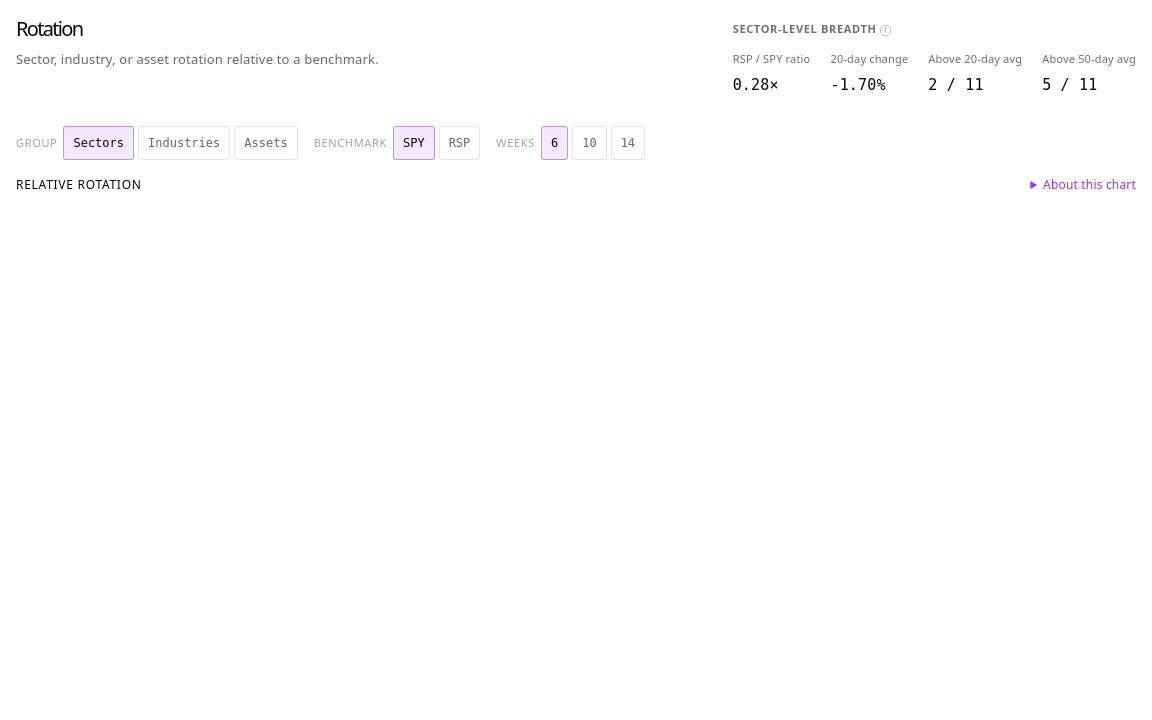
Test case: Rotation page -- default view (sectors/SPY) › states the approximation and never claims parity with the proprietary JdK indicator
Click the heading "About this chart": (1083, 185) left=1030, top=172, right=1136, bottom=198
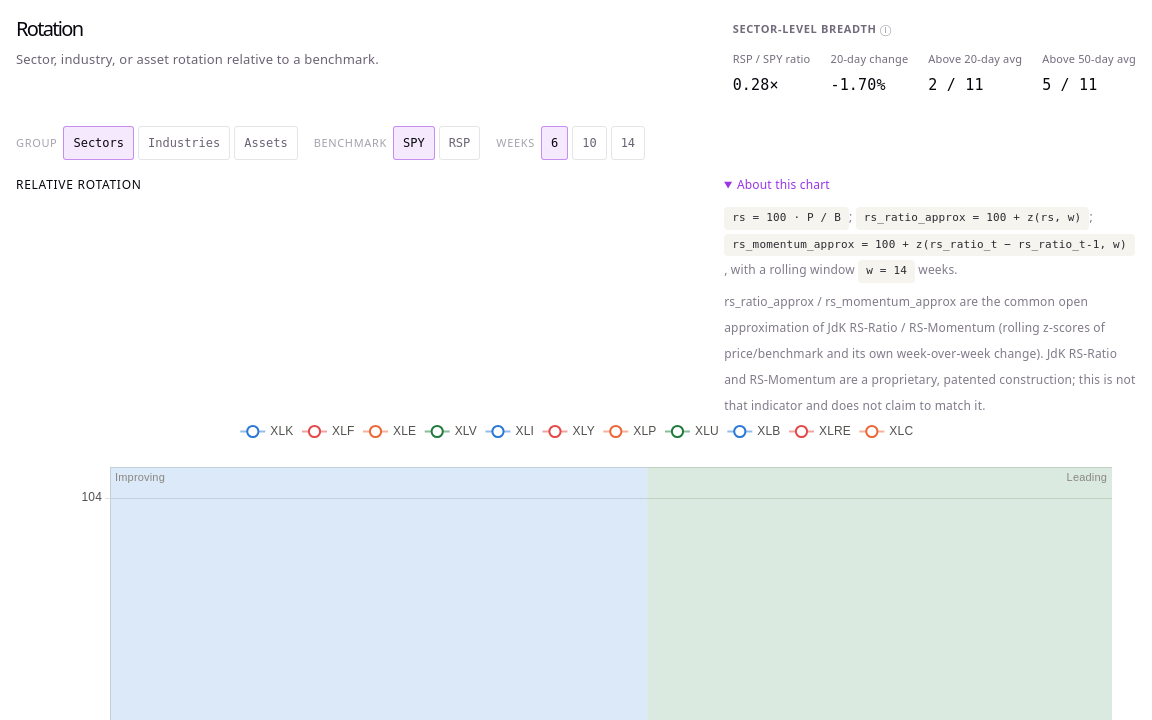
Expected: the text "rs_ratio_approx = 100 + z(rs, w)" is shown, left=856, top=208, right=1089, bottom=230
Expected: the text "rs_ratio_approx / rs_momentum_approx are the common open approximation of JdK RS-Ratio / RS-Momentum (rolling z-scores o" is shown, left=724, top=293, right=1136, bottom=414
